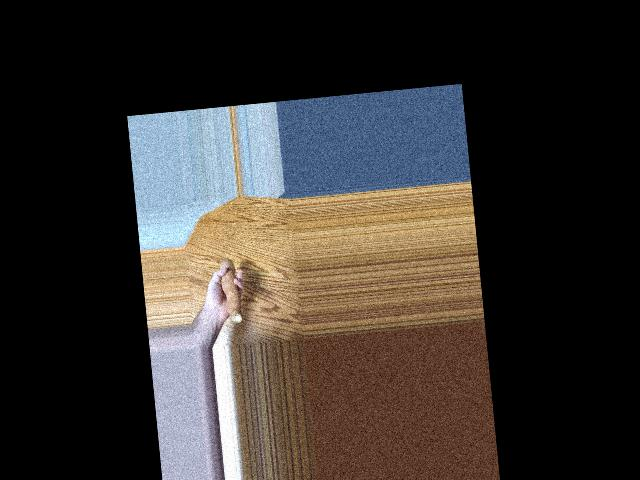sweet_potato: (222, 253, 245, 326)
